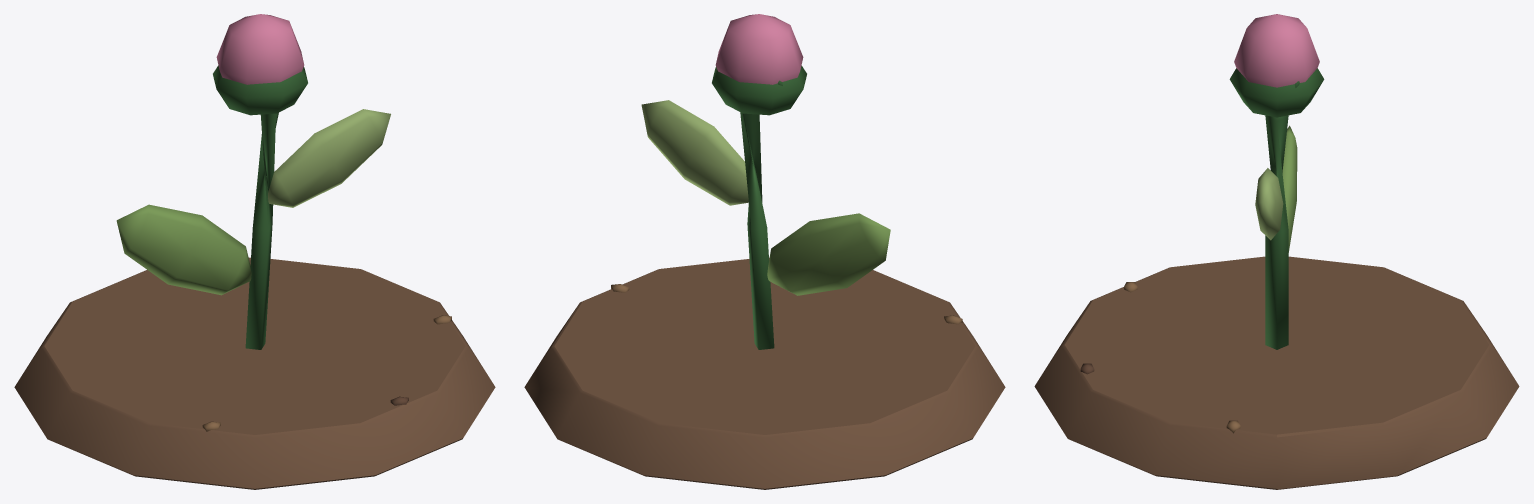
Rendered from flower_stage2_pink_low.glb.
The picture shows the model from 3 angles, left to right: view 1: azimuth 30°, elevation 25°; view 2: azimuth 150°, elevation 25°; view 3: azimuth 270°, elevation 25°; orthographic projection.
Bounding box in the file's own units: 0.3784 × 0.324 × 0.3784.
